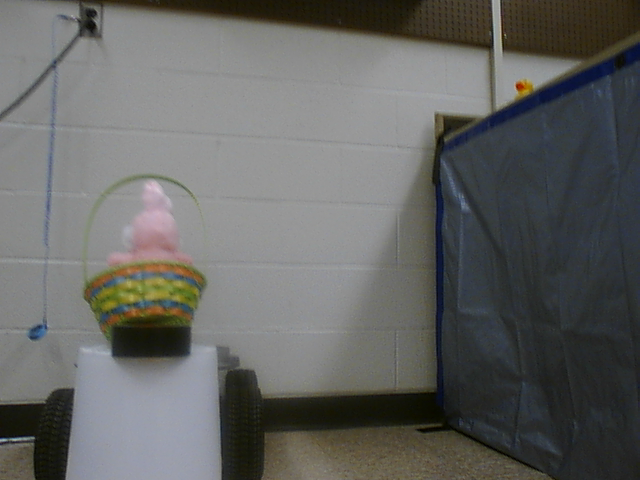bunny: (71, 163, 215, 346)
